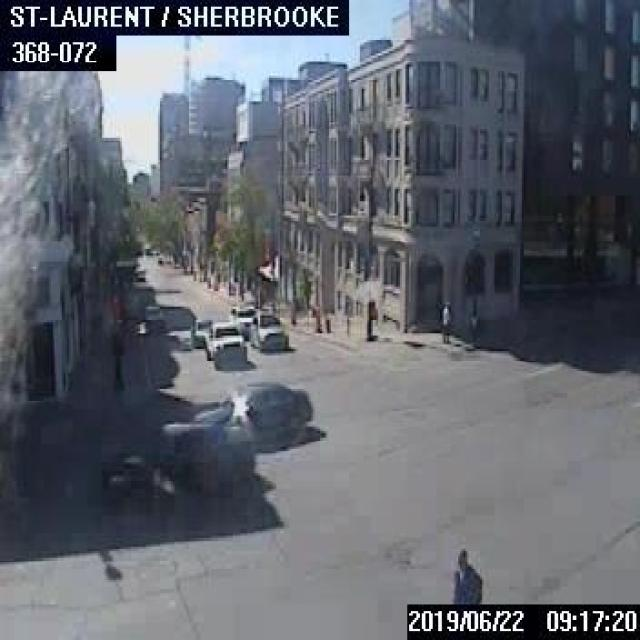pedestrian: (448, 544, 486, 601), (438, 300, 449, 342)
vehicle: (96, 425, 250, 502), (188, 381, 310, 447), (204, 319, 245, 367), (248, 310, 288, 350), (228, 301, 256, 335), (190, 318, 211, 347)
